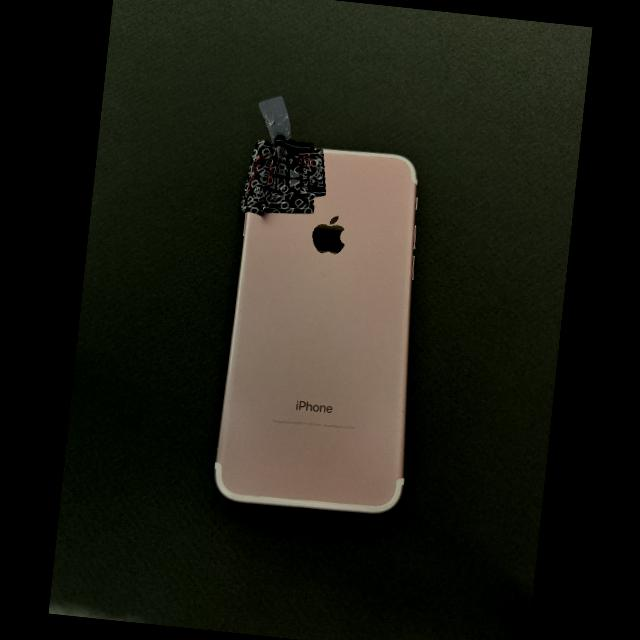phone: (214, 144, 417, 514)
sticker: (239, 133, 315, 215), (257, 96, 291, 146), (297, 148, 325, 196)
